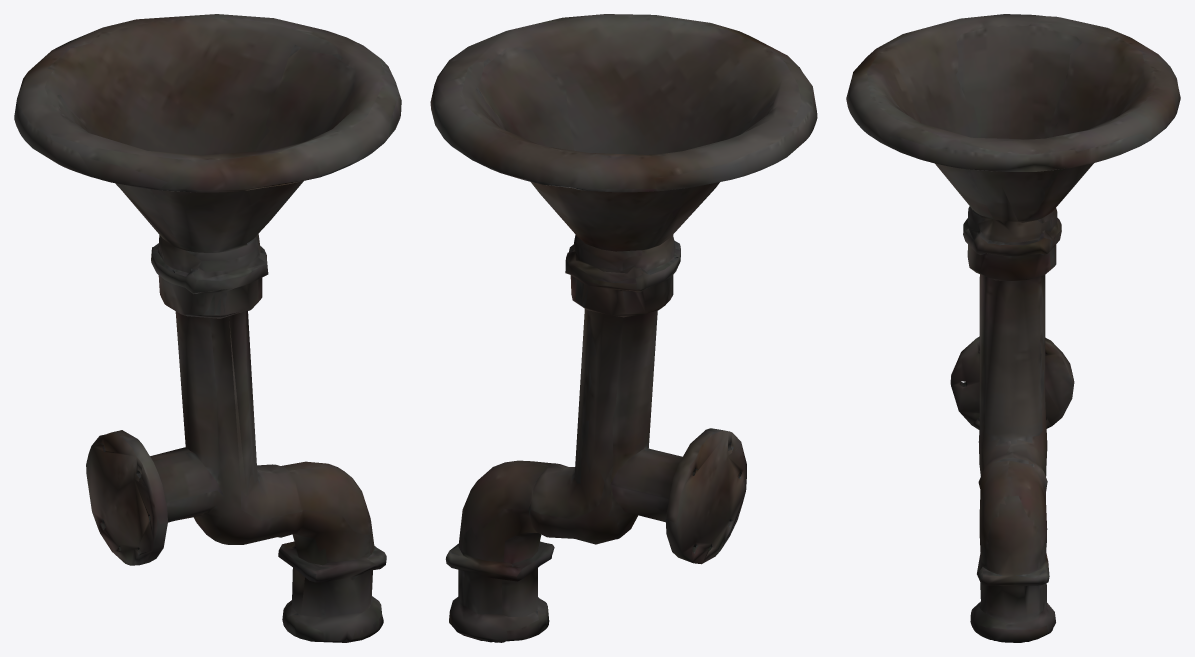
File: rustic-iron-drainpipe-v001.glb
The picture shows the model from 3 angles, left to right: view 1: azimuth 30°, elevation 25°; view 2: azimuth 150°, elevation 25°; view 3: azimuth 270°, elevation 25°; orthographic projection. The views are drawn at different scales.
Visible parts, largest first — view 1: rustic-iron-drainpipe; view 2: rustic-iron-drainpipe; view 3: rustic-iron-drainpipe.
Part boxes in pixels (left/top/right/bottom): rustic-iron-drainpipe: left=14, top=14, right=401, bottom=642; rustic-iron-drainpipe: left=430, top=14, right=817, bottom=642; rustic-iron-drainpipe: left=846, top=14, right=1180, bottom=642.
Bounding box in the file's own units: 1.71 × 2.73 × 1.68.
1 material, 1 textured.
